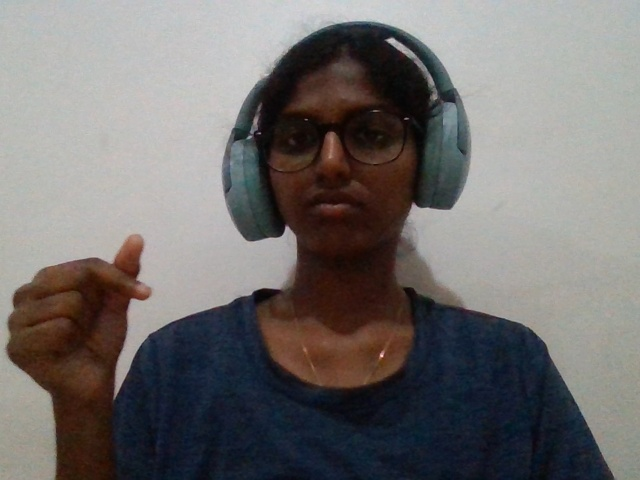G: (1, 211, 188, 480)
